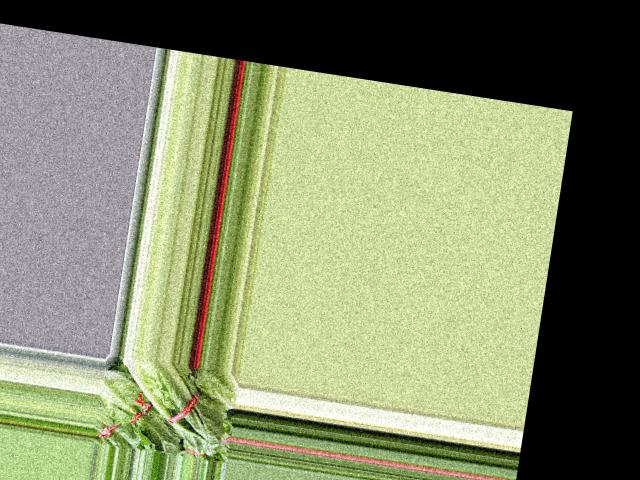lettuce: (112, 355, 234, 458)
